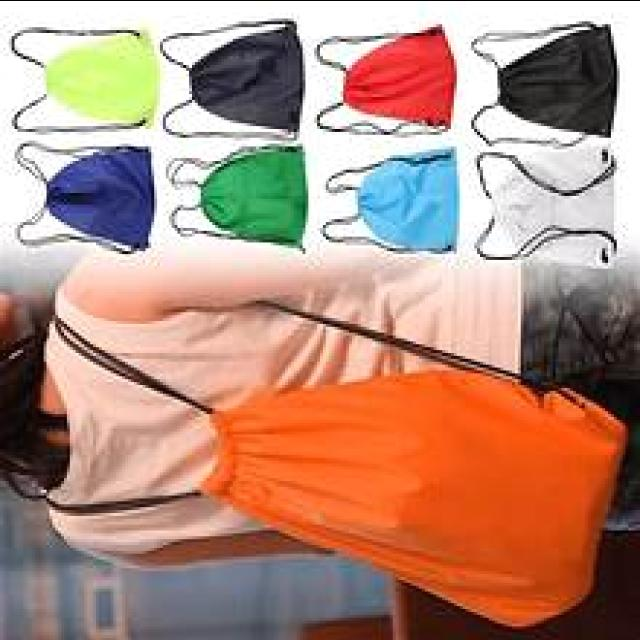backpack: (162, 360, 637, 630), (473, 17, 621, 162), (470, 17, 622, 157), (470, 142, 633, 271), (3, 142, 163, 266), (315, 17, 461, 151), (168, 13, 306, 147), (8, 16, 156, 139), (167, 142, 314, 260), (324, 144, 461, 262)
